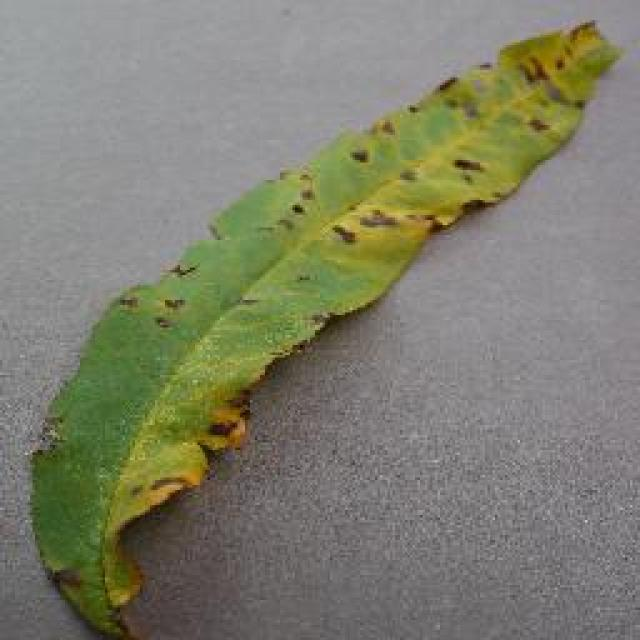Peach_Bacterial_Spot: (203, 24, 530, 368)
